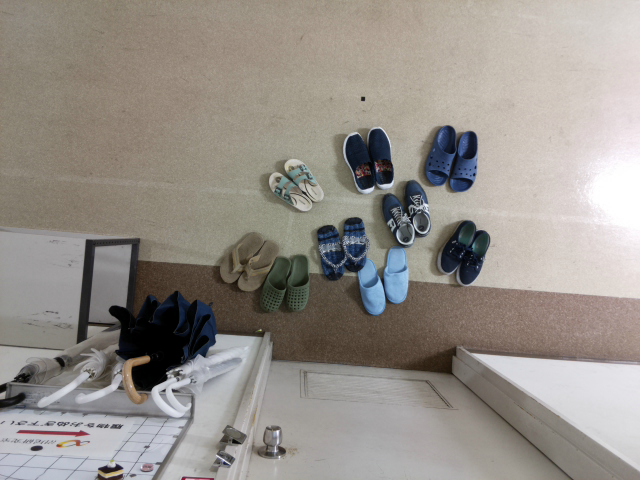Copy of Copy of Copy of Copy of Copy of sandal: (316, 224, 344, 281)
Copy of Copy of Copy of Copy of Copy of shoe: (455, 229, 491, 287)
Copy of Copy of Copy of Copy of Copy of slipper: (448, 129, 478, 193)
Copy of Copy of Copy of Copy of sandal: (342, 216, 369, 272)
Copy of Copy of Copy of Copy of shoe: (435, 219, 477, 275)
Copy of Copy of Copy of Copy of slipper: (424, 125, 457, 187)
Copy of Copy of Copy of sandal: (236, 238, 279, 291)
Copy of Copy of Copy of shoe: (381, 192, 415, 246)
Copy of Copy of Copy of slipper: (357, 257, 386, 315)
Copy of Copy of sandal: (219, 230, 264, 285)
Copy of Copy of shoe: (402, 179, 432, 236)
Copy of Copy of slipper: (383, 245, 409, 303)
Copy of sandal: (283, 156, 325, 202)
Copy of shoe: (366, 126, 394, 189)
Copy of slipper: (259, 255, 291, 313)
sandal: (267, 170, 313, 212)
shoe: (342, 131, 375, 194)
slipper: (284, 253, 310, 312)
